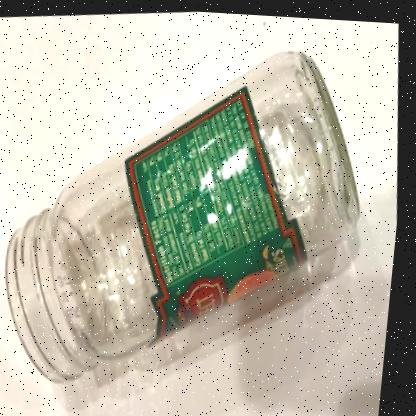Glass: (11, 48, 364, 385)
